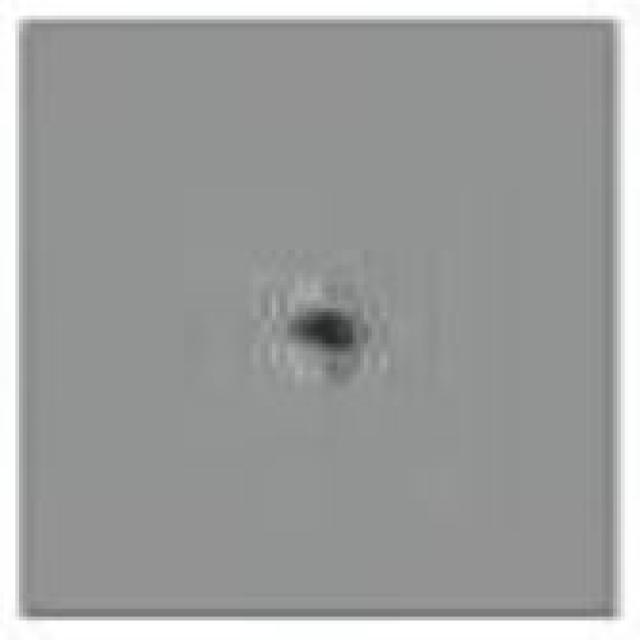Defect3: (206, 221, 447, 429)
